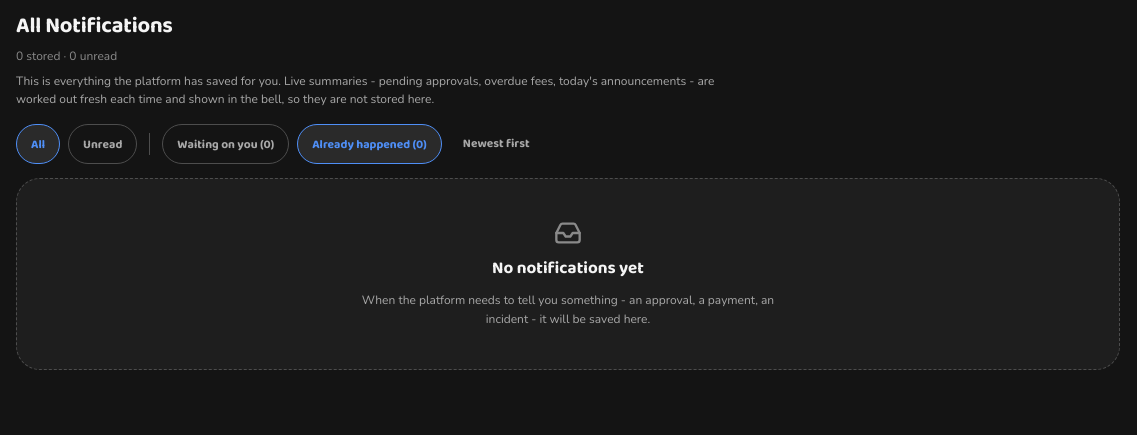
Test case: 6.3 every notification is reachable › "nothing unread" and "nothing ever arrived" are different messages
Expected: the element with test id "all-notifications-empty" is shown, [16,178,1120,370]
Click the button with test id "notif-filter-unread": (103, 144) [68,124,137,164]
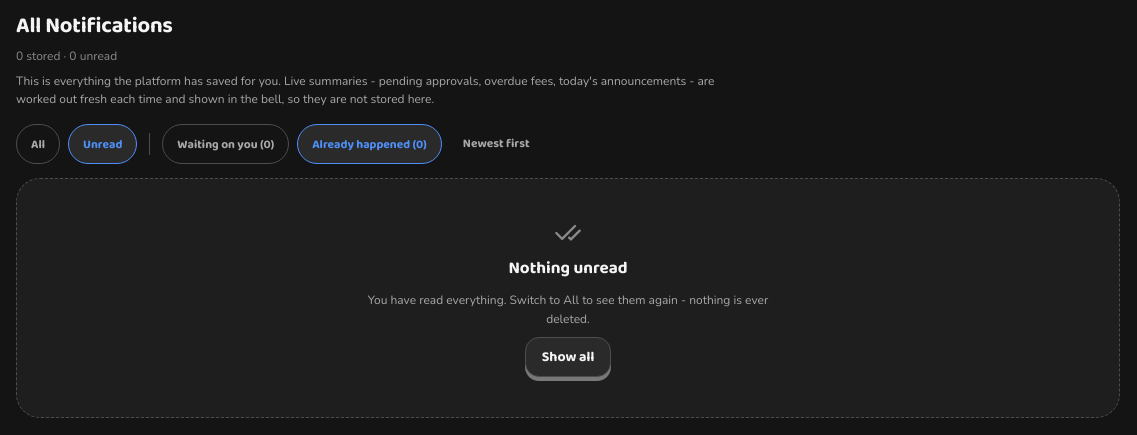
Result: the element with test id "all-notifications-none-unread" is shown at [16,178,1120,418]
Result: the element with test id "all-notifications-empty" is gone
